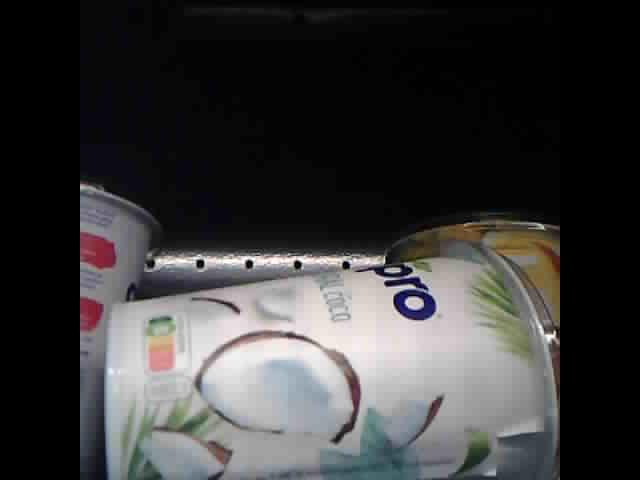alpro: (106, 239, 561, 480), (80, 177, 160, 480), (385, 208, 561, 338)
